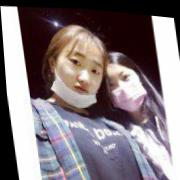OK: (105, 63, 147, 113)
WRONG: (53, 43, 107, 110)
